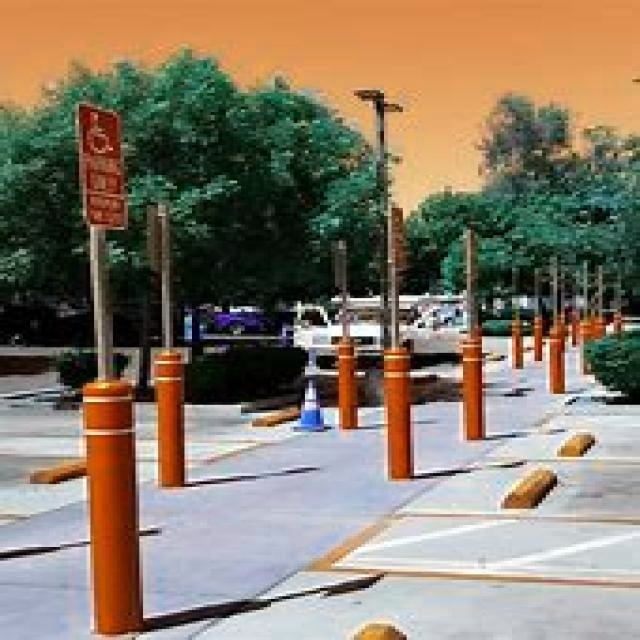ISA: (83, 111, 117, 162)
